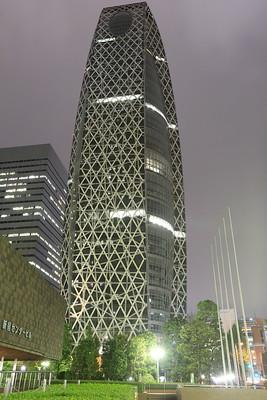building: (38, 0, 190, 385)
